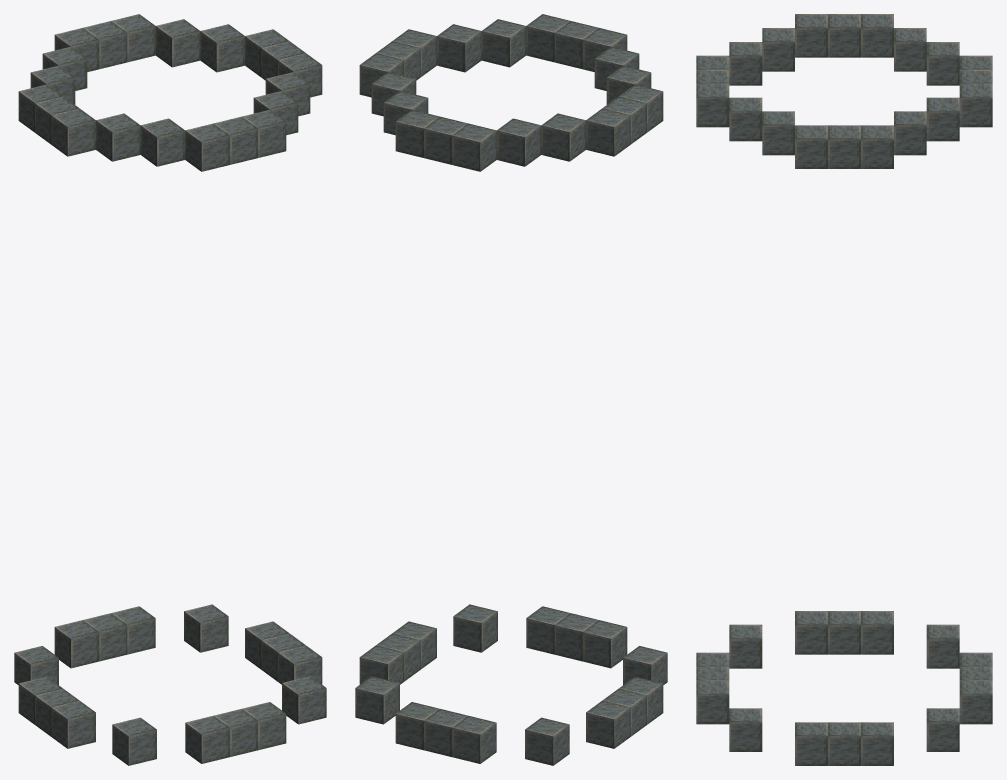
File: lighthouse_polished_tuff.obj
3 renders of one model, left to right at view 1: azimuth 30°, elevation 25°; view 2: azimuth 150°, elevation 25°; view 3: azimuth 270°, elevation 25°, orthographic.
Bounding box in the file's own units: 9 × 21 × 9.
